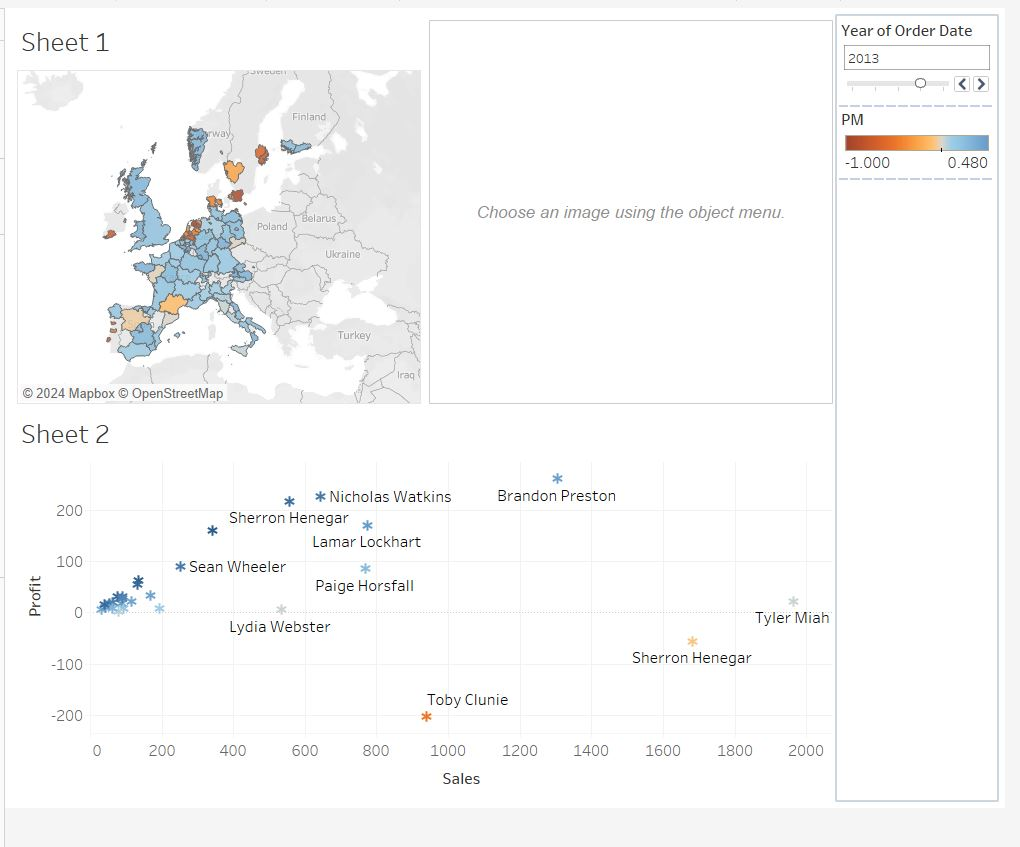

The page's visual inventory and layout, read from the dashboard file:
{"tool":"tableau","page":{"name":"Dashboard 1","canvas":[1000,800],"ordinal":0},"visuals":[{"type":"worksheet","title":"Sheet 1","mark":"Automatic","box":[8,8,412,392]},{"type":"image","box":[420,8,412,392]},{"type":"filter","title":"Sheet 1","param":"[federated.1q3otus1jppq9c1gdbi5r0tdsmdw].[yr:Order Date:ok]","box":[832,8,160,89]},{"type":"legend","title":"Sheet 1","param":"[federated.1q3otus1jppq9c1gdbi5r0tdsmdw].[usr:Calculation_853432136698515456:qk]","box":[832,97,160,73]},{"type":"worksheet","title":"Sheet 2","mark":"Automatic","rows":["Profit"],"cols":["Sales"],"box":[8,400,824,392]}]}

Visuals, with their boxes on the page's 1000x800 design canvas (x1, y1, x2, y2). These are canvas units, not pixel positions in the 1020x847 screenshot, which may show the page scaled, cropped or inside an application window:
"Sheet 1" worksheet: BBox(8, 8, 420, 400)
image: BBox(420, 8, 832, 400)
"Sheet 1" filter: BBox(832, 8, 992, 97)
"Sheet 1" legend: BBox(832, 97, 992, 170)
"Sheet 2" worksheet: BBox(8, 400, 832, 792)
